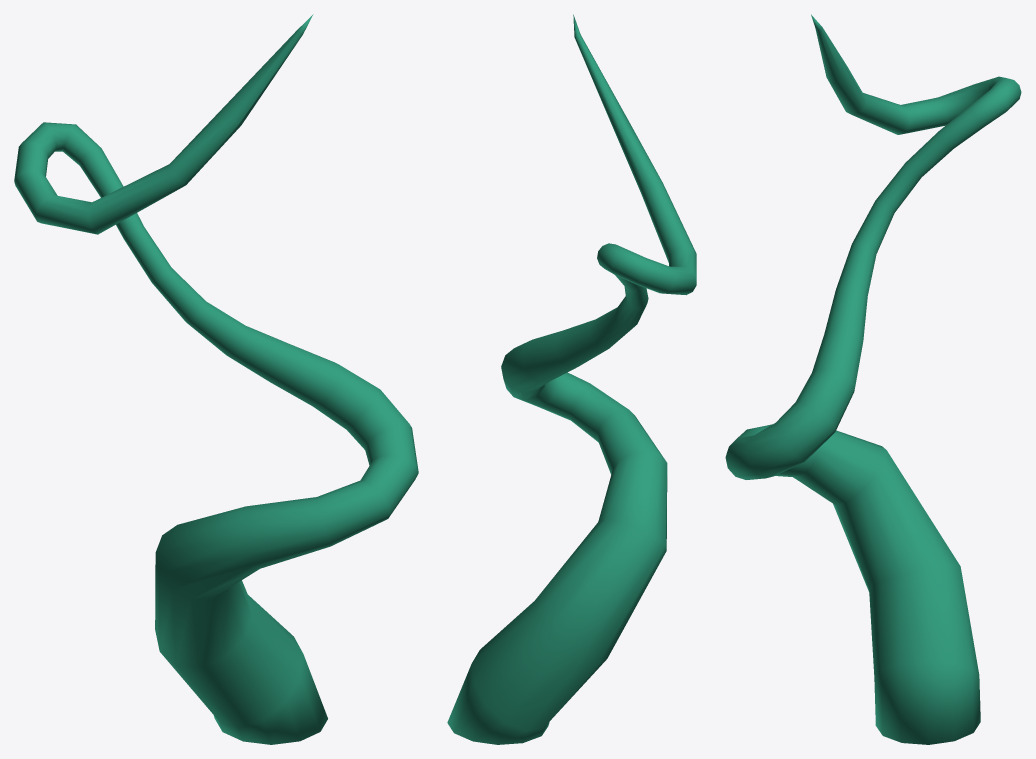
Rendered from SM_E_TwistingVine_01.fbx.
3 views of the same model, side by side, from view 1: azimuth 30°, elevation 25°; view 2: azimuth 150°, elevation 25°; view 3: azimuth 270°, elevation 25° (orthographic). The views are drawn at different scales.
Visible parts, largest first — view 1: SM_E_TwistingVine_01; view 2: SM_E_TwistingVine_01; view 3: SM_E_TwistingVine_01.
Boxes of the visible parts, x1,y1,x2,y2 form: SM_E_TwistingVine_01: (14,14,418,744); SM_E_TwistingVine_01: (447,14,696,744); SM_E_TwistingVine_01: (725,14,1021,744).
Size of the model in its own units: 282 by 696 by 266.
